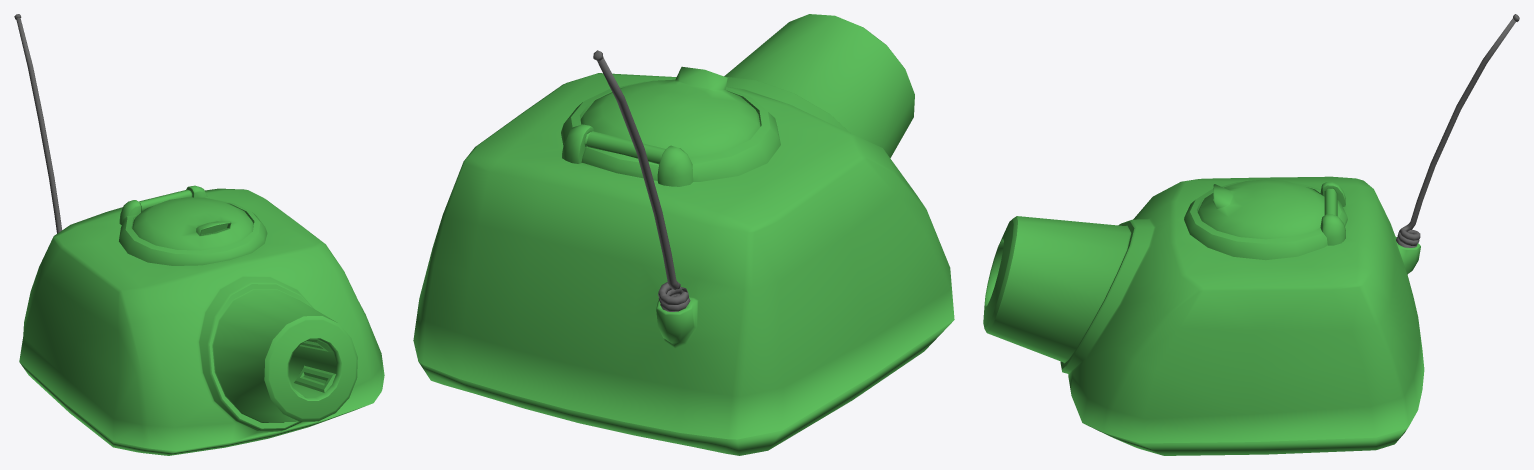
File: TankCanon.fbx
The picture shows the model from 3 angles, left to right: view 1: azimuth 30°, elevation 25°; view 2: azimuth 150°, elevation 25°; view 3: azimuth 270°, elevation 25°; orthographic projection. The views are drawn at different scales.
Visible parts, largest first — view 1: TankCanon; view 2: TankCanon; view 3: TankCanon.
Part boxes in pixels (left/top/right/bottom): TankCanon: left=14, top=14, right=384, bottom=455; TankCanon: left=413, top=14, right=954, bottom=455; TankCanon: left=983, top=14, right=1519, bottom=455.
Bounding box in the file's own units: 12937 × 14355 × 19855.
